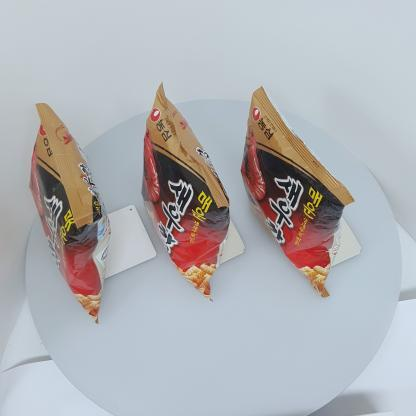Plastic Packaging: (240, 82, 354, 296), (140, 83, 230, 305), (25, 103, 110, 330)
